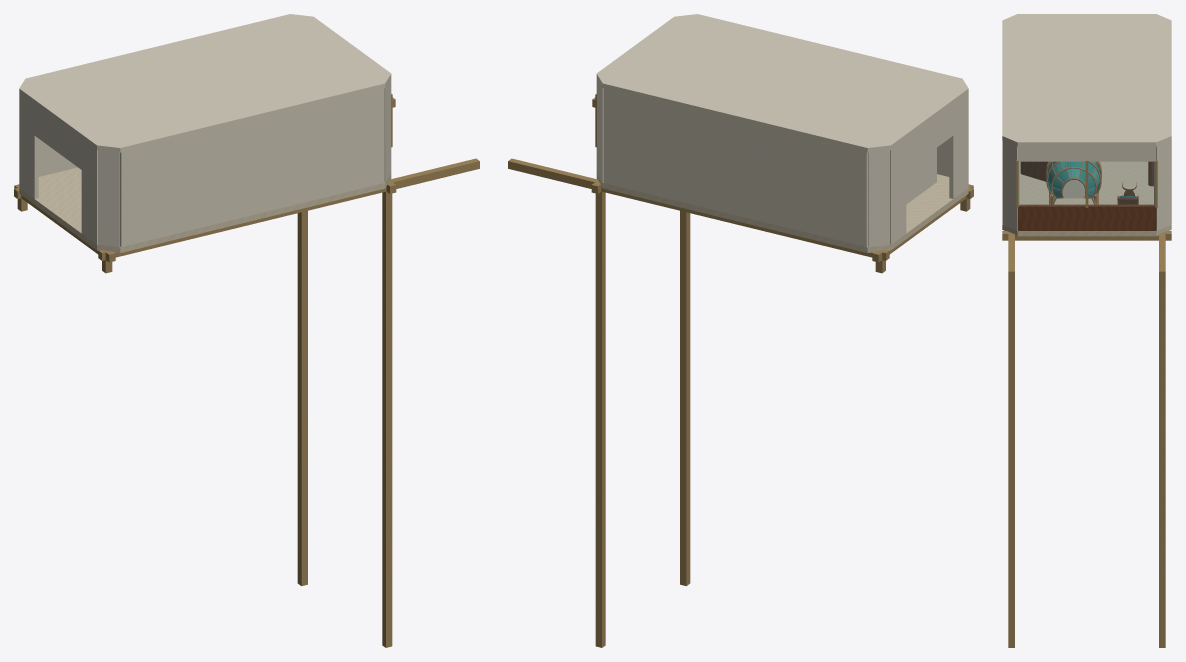
File: D04_STARBOARD_AFT_HOME_891_r001.glb
3 renders of one model, left to right at view 1: azimuth 30°, elevation 25°; view 2: azimuth 150°, elevation 25°; view 3: azimuth 270°, elevation 25°, orthographic. The views are drawn at different scales.
Visible parts, largest first — view 1: SA891_D04H880_Roof, SA891_D04H880_Shell_7, SA891_D04H880_Pier_1, SA891_D04H880_Floor, SA891_D04H880_Pier_2, SA891_D04H880_FloorCross_0, SA891_D04H880_Shell_6, SA891_D04H880_EntryWall_1, SA891_D04H880_EntryWall_0, SA891_D04H880_EntryHeader, SA891_D04H880_Shell_3, SA891_D04H880_Shell_0; view 2: SA891_D04H880_Roof, SA891_D04H880_Shell_3, SA891_D04H880_Pier_2, SA891_D04H880_Pier_1, SA891_D04H880_Floor, SA891_D04H880_FloorCross_1, SA891_D04H880_Shell_4, SA891_D04H880_EntryWall_0, SA891_D04H880_EntryWall_1, SA891_D04H880_EntryHeader, SA891_D04H880_BathDogleg, SA891_D04H880_Shell_2; view 3: SA891_D04H880_Roof, SA891_D04H880_GardenGlass, SA891_D04H880_Floor, SA891_D04H880_GardenDado, SA891_D04H880_Pier_1, SA891_D04H880_Pier_2, SA891_D04H880_GardenHead, SA891_D04H880_Shell_0, SA891_D04H880_Shell_2, SA891_D04H880_Long_-58.650000000000006, SA891_D04H880_QuietWing, SA891_ReservedCocoon__Rear ivory acoustic diffuser (+2 smaller).
Boxes of the visible parts, x1,y1,x2,y2 form: SA891_D04H880_Roof: [19, 14, 391, 152]; SA891_D04H880_Shell_7: [120, 88, 384, 247]; SA891_D04H880_Pier_1: [382, 186, 392, 647]; SA891_D04H880_Floor: [19, 167, 391, 252]; SA891_D04H880_Pier_2: [297, 211, 307, 586]; SA891_D04H880_FloorCross_0: [98, 158, 479, 260]; SA891_D04H880_Shell_6: [98, 150, 119, 247]; SA891_D04H880_EntryWall_1: [19, 93, 38, 198]; SA891_D04H880_EntryWall_0: [81, 139, 97, 244]; SA891_D04H880_EntryHeader: [34, 105, 81, 169]; SA891_D04H880_Shell_3: [38, 139, 77, 176]; SA891_D04H880_Shell_0: [384, 79, 391, 182]; SA891_D04H880_Roof: [596, 14, 968, 152]; SA891_D04H880_Shell_3: [603, 88, 867, 247]; SA891_D04H880_Pier_2: [595, 186, 605, 647]; SA891_D04H880_Pier_1: [680, 211, 690, 586]; SA891_D04H880_Floor: [596, 173, 968, 252]; SA891_D04H880_FloorCross_1: [508, 158, 889, 260]; SA891_D04H880_Shell_4: [868, 150, 889, 247]; SA891_D04H880_EntryWall_0: [949, 93, 968, 198]; SA891_D04H880_EntryWall_1: [890, 139, 906, 244]; SA891_D04H880_EntryHeader: [906, 105, 953, 169]; SA891_D04H880_BathDogleg: [906, 148, 936, 204]; SA891_D04H880_Shell_2: [596, 79, 603, 182]; SA891_D04H880_Roof: [1002, 14, 1171, 146]; SA891_D04H880_GardenGlass: [1020, 162, 1153, 205]; SA891_D04H880_Floor: [1002, 161, 1171, 236]; SA891_D04H880_GardenDado: [1017, 204, 1156, 230]; SA891_D04H880_Pier_1: [1008, 231, 1014, 647]; SA891_D04H880_Pier_2: [1159, 231, 1165, 647]; SA891_D04H880_GardenHead: [1017, 146, 1156, 161]; SA891_D04H880_Shell_0: [1003, 140, 1019, 230]; SA891_D04H880_Shell_2: [1154, 140, 1170, 230]; SA891_D04H880_Long_-58.650000000000006: [1002, 231, 1171, 240]; SA891_D04H880_QuietWing: [1020, 161, 1047, 181]; SA891_ReservedCocoon__Rear ivory acoustic diffuser: [1063, 180, 1084, 198].
Bounding box in the file's own units: 16.55 × 23.78 × 7.2.
Materials: 36 (21 with a texture image).
